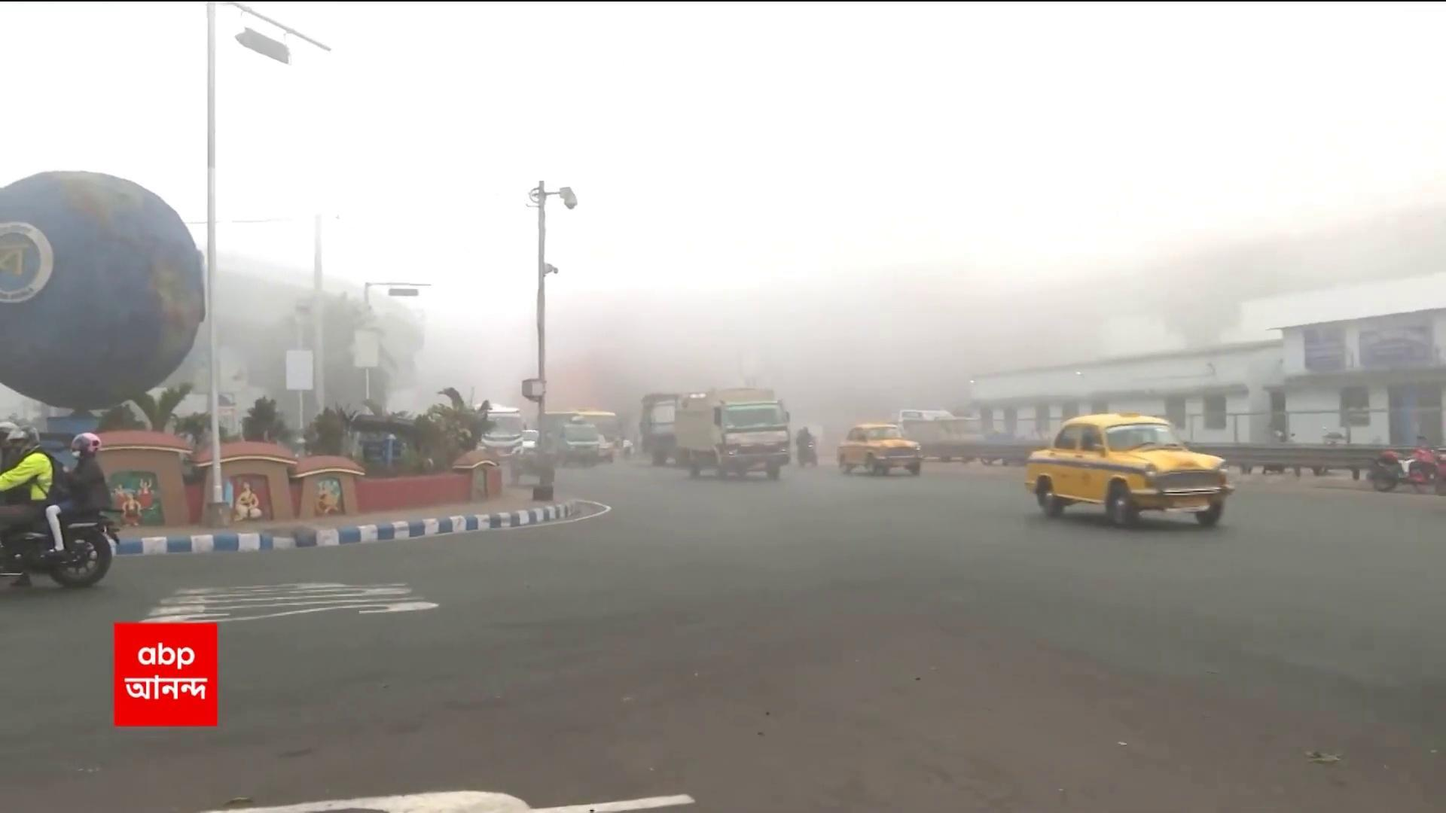Car: (1023, 406, 1235, 534), (828, 417, 928, 481)
Truck: (670, 384, 796, 476)
